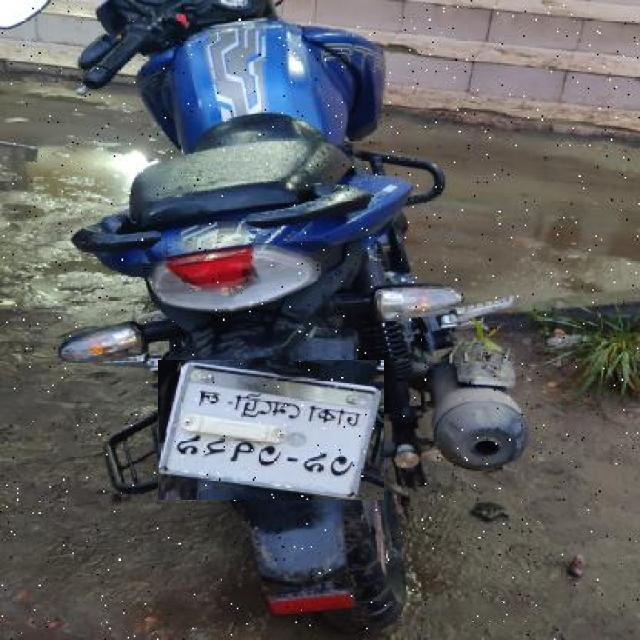numberplate: (158, 360, 384, 500)
